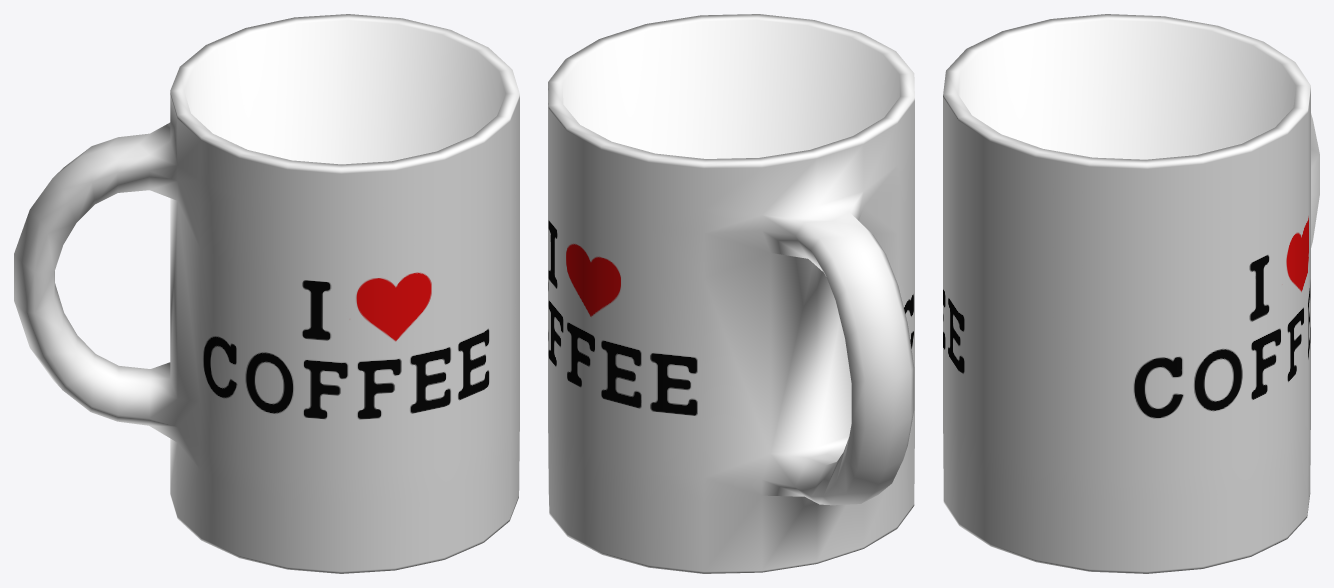
Rendered from mug.gltf.
3 views of the same model, side by side, from view 1: azimuth 30°, elevation 25°; view 2: azimuth 150°, elevation 25°; view 3: azimuth 270°, elevation 25° (orthographic).
Visible parts, largest first — view 1: Mug_1; view 2: Mug_1; view 3: Mug_1.
Boxes of the visible parts, x1=… form: Mug_1: x1=14, y1=14, x2=519, y2=573; Mug_1: x1=548, y1=14, x2=914, y2=573; Mug_1: x1=943, y1=14, x2=1319, y2=573.
Bounding box in the file's own units: 0.094 × 0.09 × 0.0752.
1 material, 1 textured.
